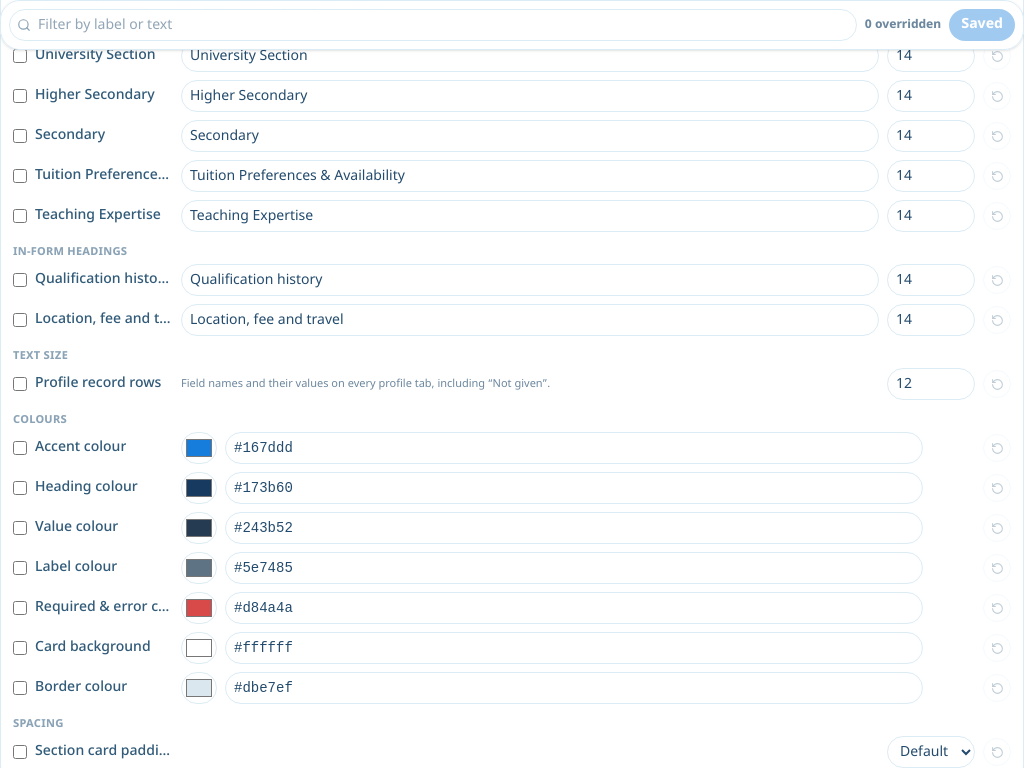
Test case: Site content editor › saves a changed size in pixels and treats the shipped size as no override
(page scrolled)
Replace the text in the number field named "Tutor dashboard Profile record rows text size in pixels" with "15" at (931, 384), box [887,368,975,400]
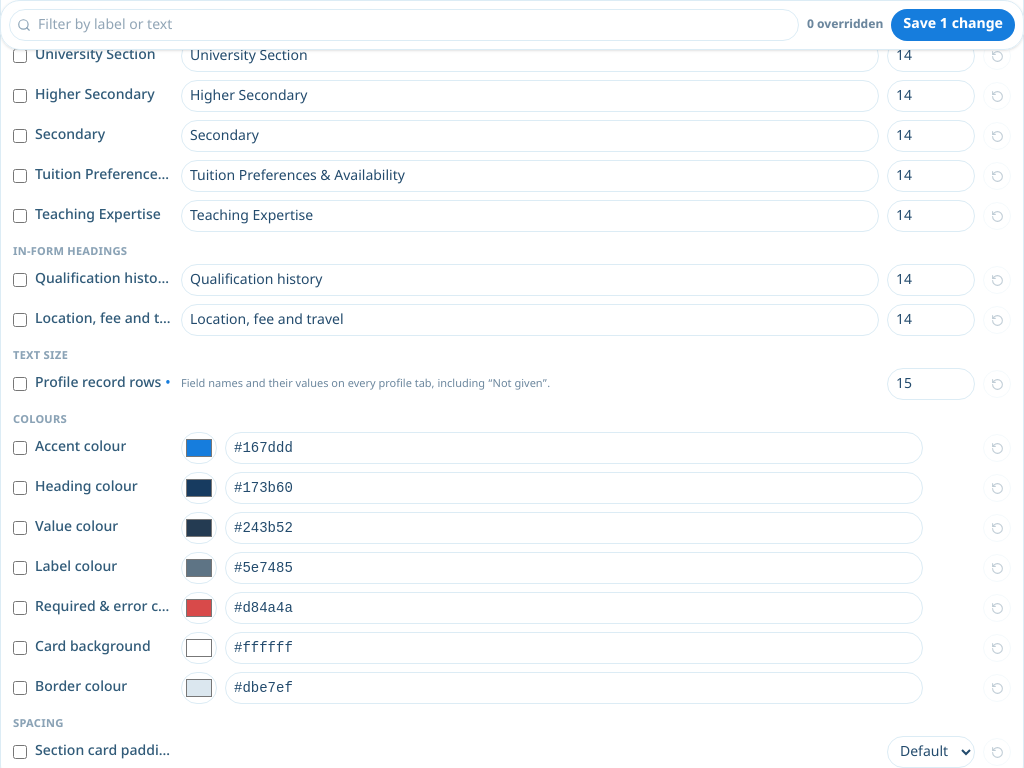
Click the button "Save 1 change".
click(953, 25)  # box [891,9,1015,41]
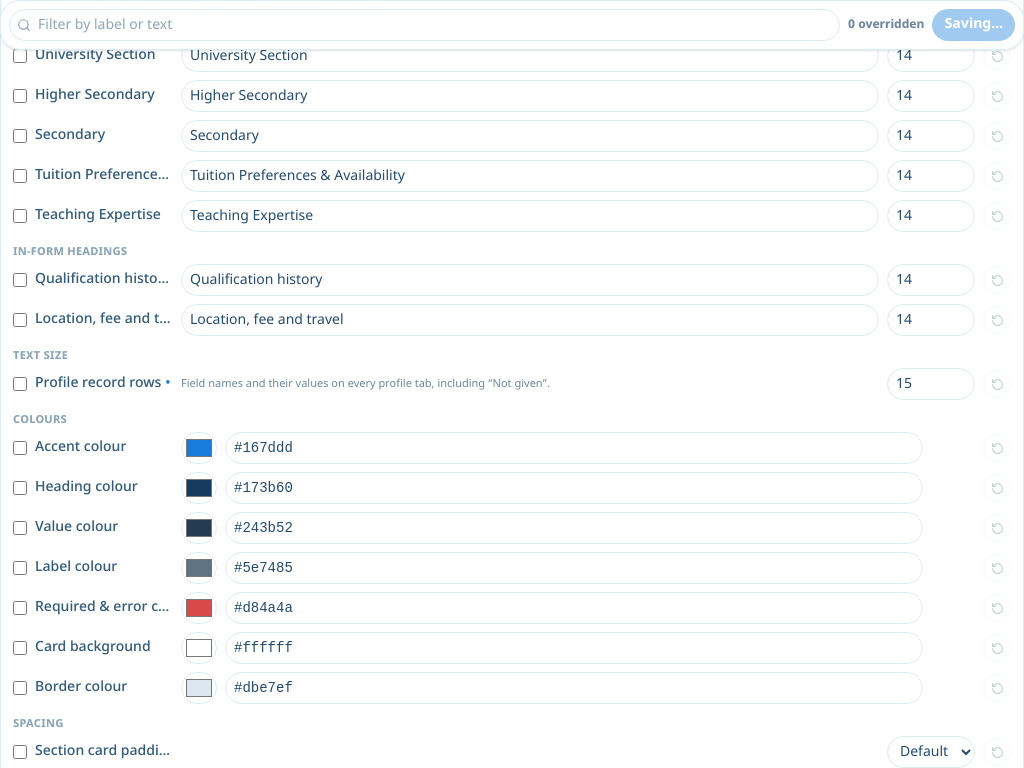
Replace the text in the number field named "Tutor dashboard Profile record rows text size in pixels" with "12" at (931, 384), box [887,368,975,400]
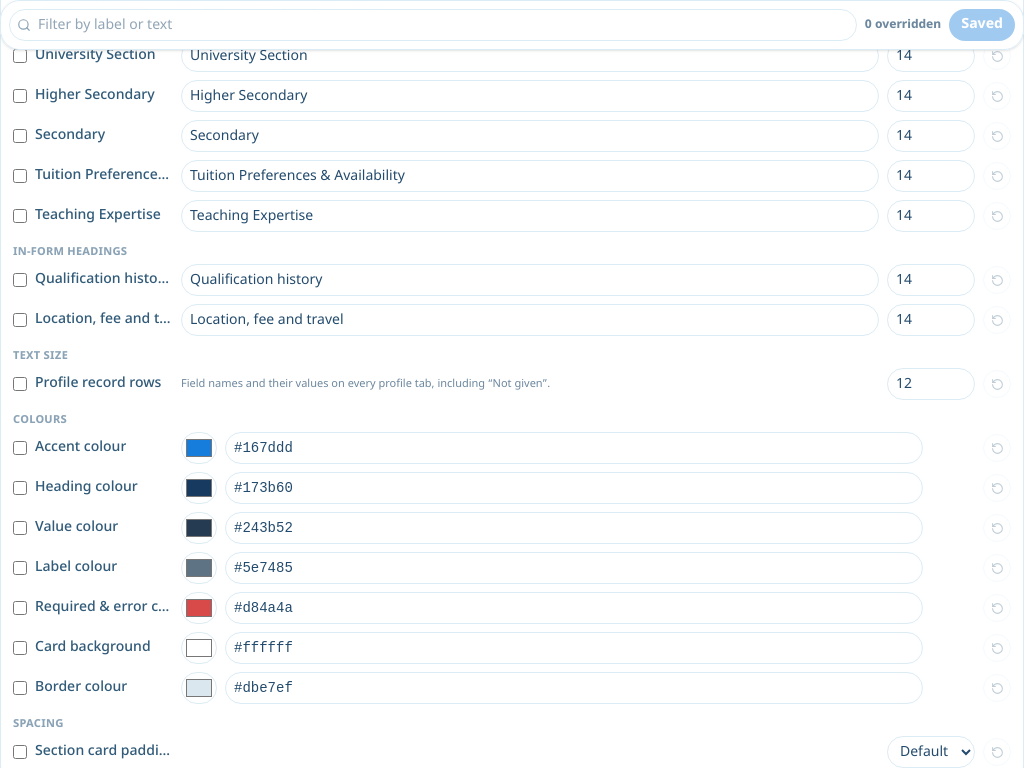
Now the button "Saved" is shown, box [949,9,1015,41]
